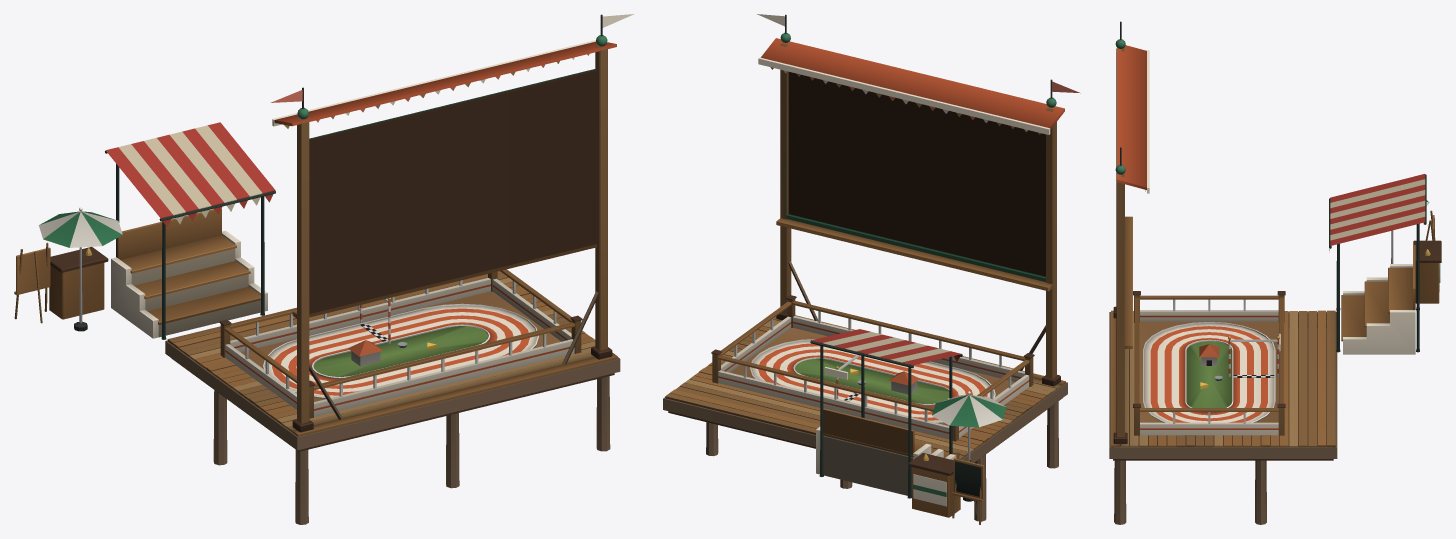
File: pav_rats.glb
The picture shows the model from 3 angles, left to right: view 1: azimuth 30°, elevation 25°; view 2: azimuth 150°, elevation 25°; view 3: azimuth 270°, elevation 25°; orthographic projection. The views are drawn at different scales.
Visible parts, largest first — view 1: static_rats; view 2: static_rats; view 3: static_rats.
Boxes of the visible parts, left/top/right/bottom form: static_rats: left=14, top=14, right=620, bottom=524; static_rats: left=663, top=14, right=1067, bottom=524; static_rats: left=1109, top=21, right=1441, bottom=524.
Size of the model in its own units: 9.28 by 8.8 by 7.08.
